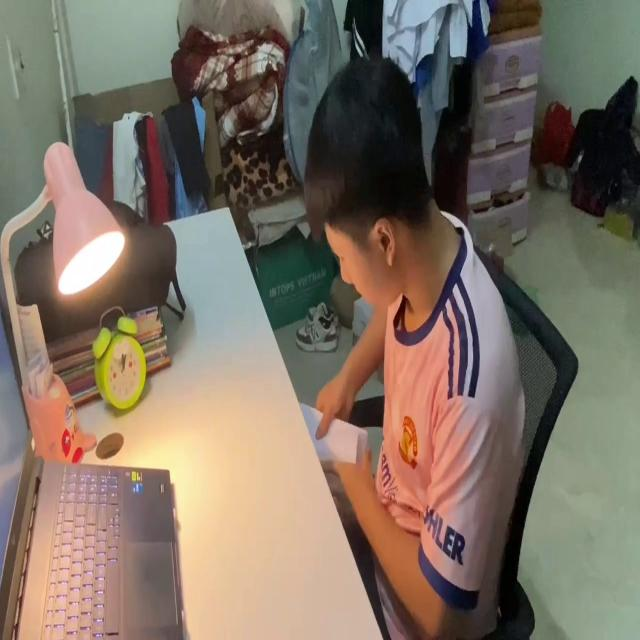book: (301, 395, 367, 522)
laptop: (0, 295, 187, 640)
student: (298, 61, 516, 640)
